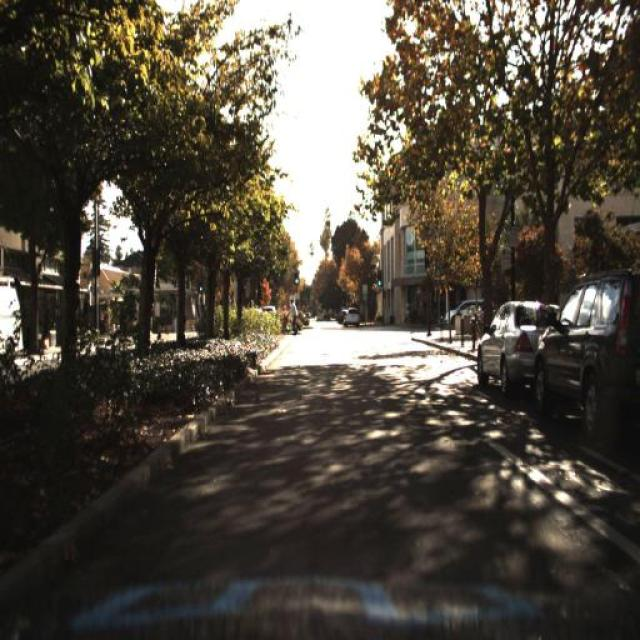car: (532, 260, 638, 431), (472, 296, 554, 399), (437, 287, 484, 335), (344, 308, 360, 328)
trafficLight: (277, 292, 304, 334), (475, 289, 491, 350), (282, 300, 303, 330)
trafficLight-GreenLeft: (372, 262, 383, 292), (374, 266, 384, 290)
trafficLight-Red: (292, 266, 302, 292)
